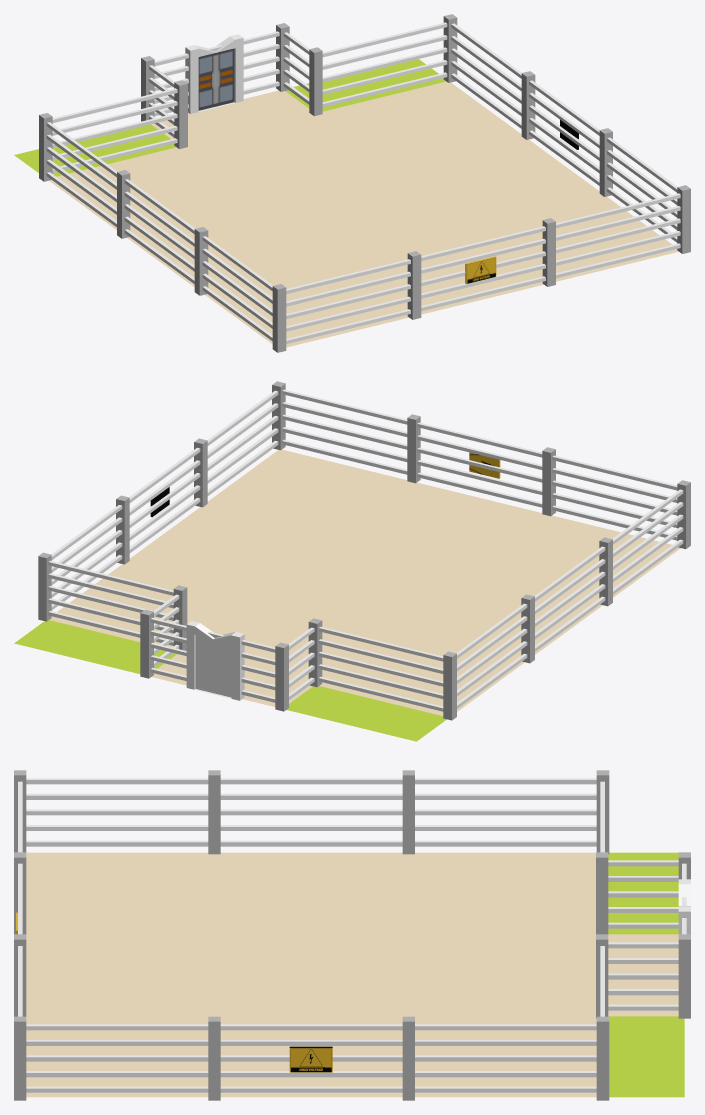
File: yenicit (3).fbx
The picture shows the model from 3 angles, top to bottom: view 1: azimuth 30°, elevation 25°; view 2: azimuth 150°, elevation 25°; view 3: azimuth 270°, elevation 25°; orthographic projection. The views are drawn at different scales.
Parts seen in each view (by area): view 1: Plane, Cube.017; view 2: Plane, Cube.017; view 3: Plane, Cube.017.
Part boxes in pixels (x1,y1,x2,y2): Plane: (14, 59, 678, 347); Cube.017: (39, 14, 690, 352); Plane: (14, 449, 680, 741); Cube.017: (38, 381, 690, 720); Plane: (26, 852, 684, 1097); Cube.017: (14, 770, 690, 1100).
Bounding box in the file's own units: 14.39 × 2.12 × 16.37.
